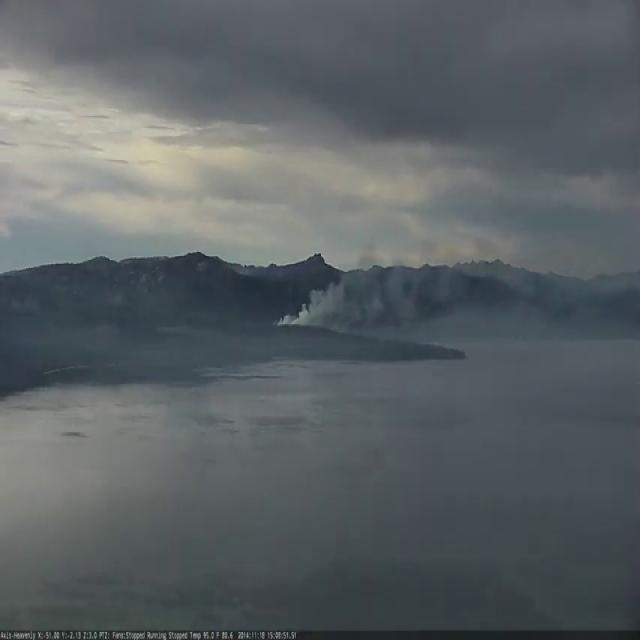smoke: (273, 234, 640, 346)
